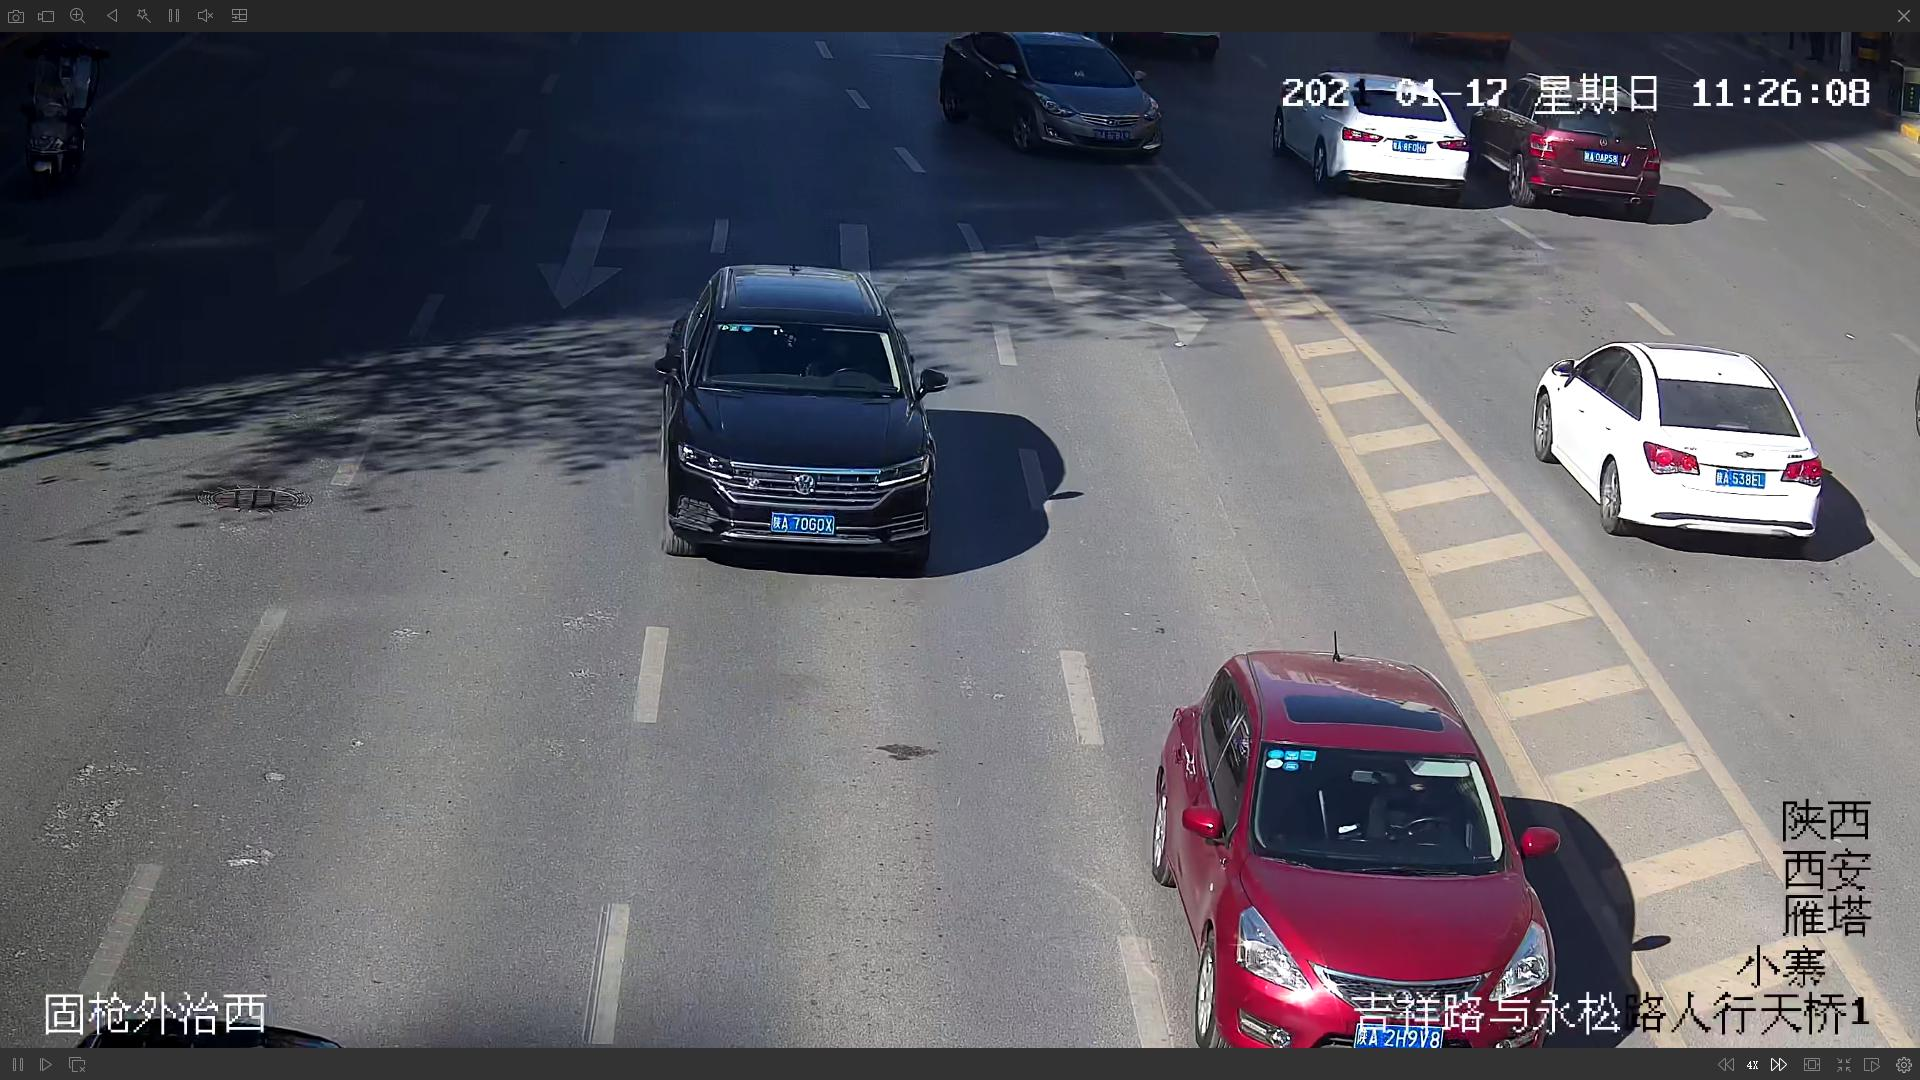black: (649, 266, 949, 571)
dark-red: (1145, 654, 1568, 1034)
white: (1528, 343, 1838, 556)
